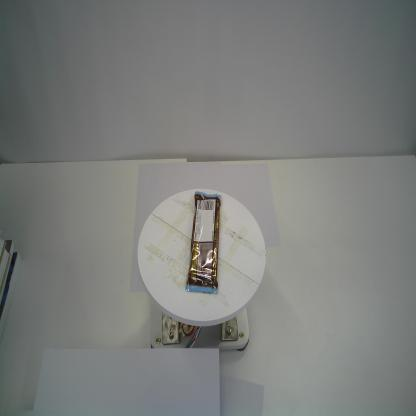Chocolate: (184, 189, 222, 297)
